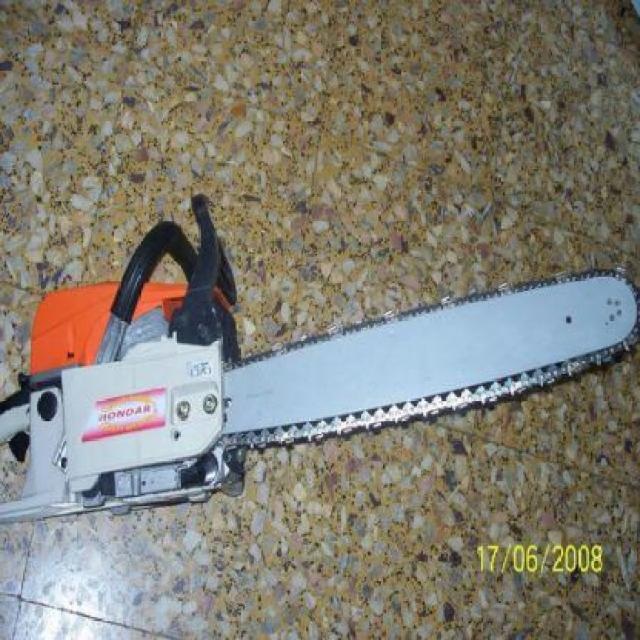Chainsaw: (0, 191, 640, 520)
